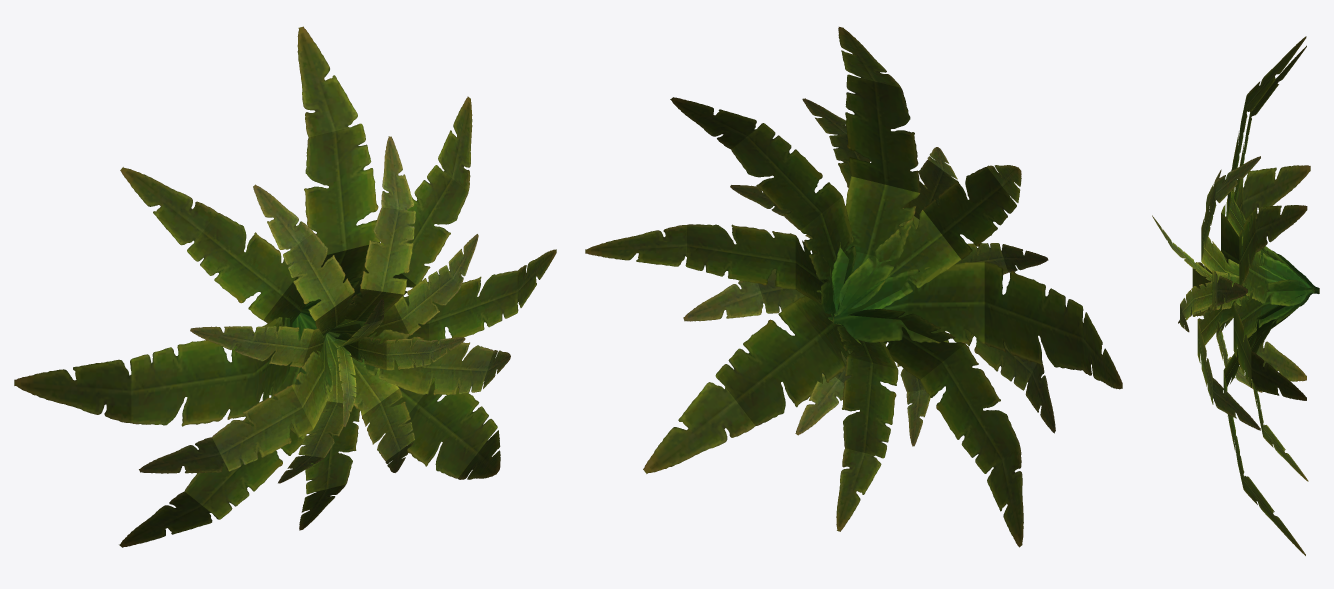
The model's file is jingling_02_grass_02.obj.
3 views of the same model, side by side, from view 1: azimuth 30°, elevation 25°; view 2: azimuth 150°, elevation 25°; view 3: azimuth 270°, elevation 25° (orthographic). The views are drawn at different scales.
Parts seen in each view (by area): view 1: jingling_02_grass_02; view 2: jingling_02_grass_02; view 3: jingling_02_grass_02.
Part boxes in pixels (box(x1,y1,x2,y2)): jingling_02_grass_02: box(14, 26, 556, 547); jingling_02_grass_02: box(585, 27, 1122, 547); jingling_02_grass_02: box(1152, 36, 1319, 555).
Bounding box in the file's own units: 94.11 × 88.93 × 28.81.
1 material, 1 textured.
